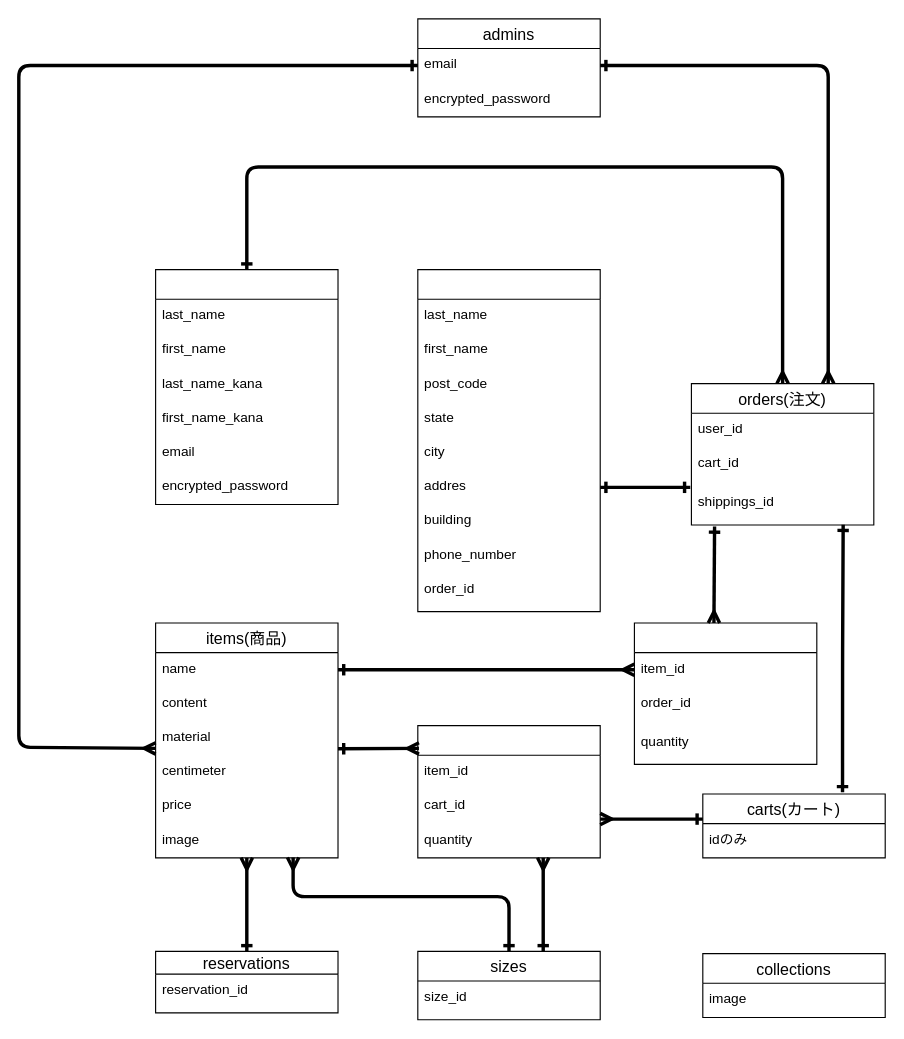
The diagram is 904 pixels wide and 1039 high, and some of its shapes have lost their labels. The shapes that lost their labels are listed below. From the top down, each one's box as (x1, y1, x2, y2) in pixels, then its label:
(154, 268, 338, 504): users(会員)
(417, 268, 600, 612): shippings(配送先)
(633, 622, 817, 764): order_details
(417, 724, 600, 858): cart_items
